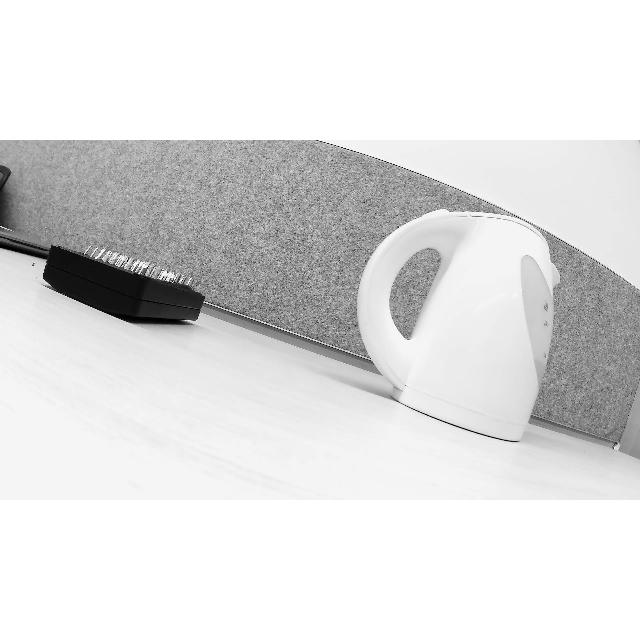targets: (356, 212, 572, 434), (42, 234, 218, 326)
